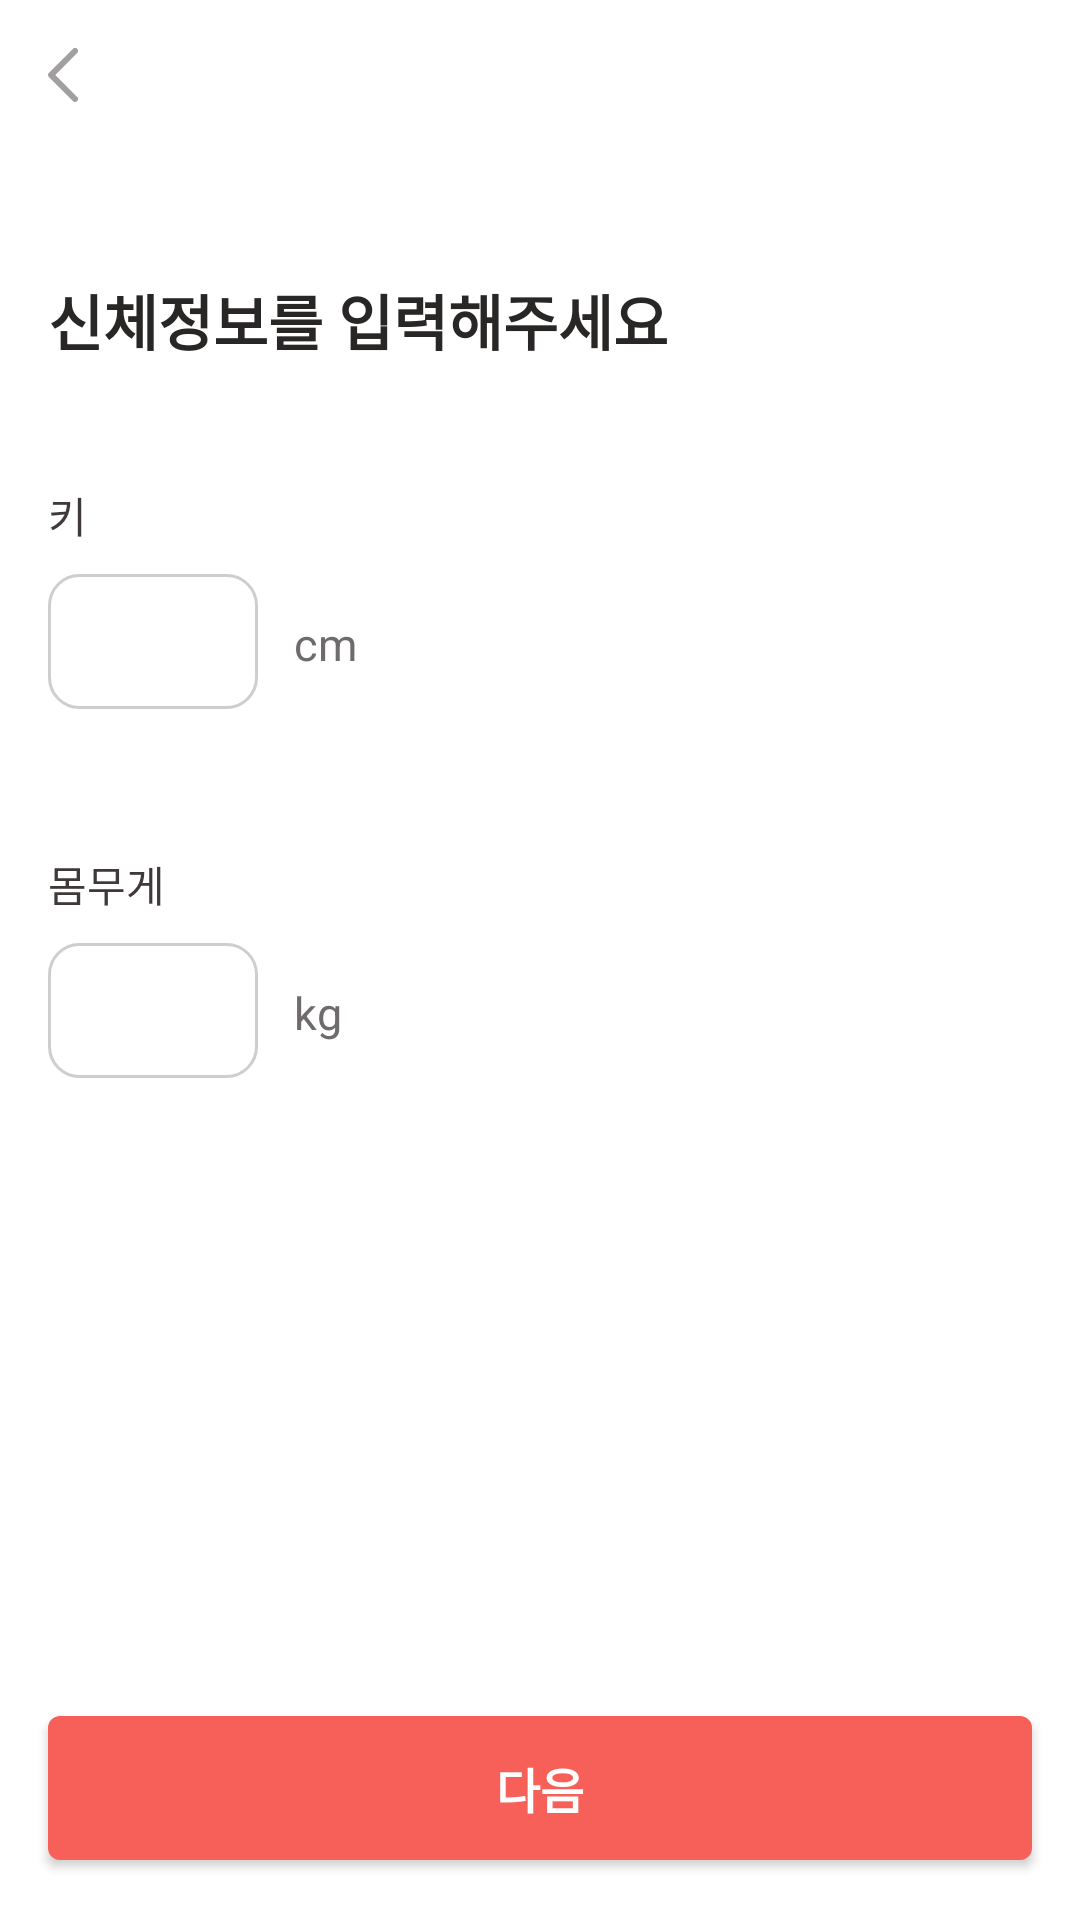

Icons on this 1080 x 1920 Android screen, each with its box as [left=x1, top=y1, right=x2, bottom=y2]:
back: [left=48, top=48, right=78, bottom=102]
